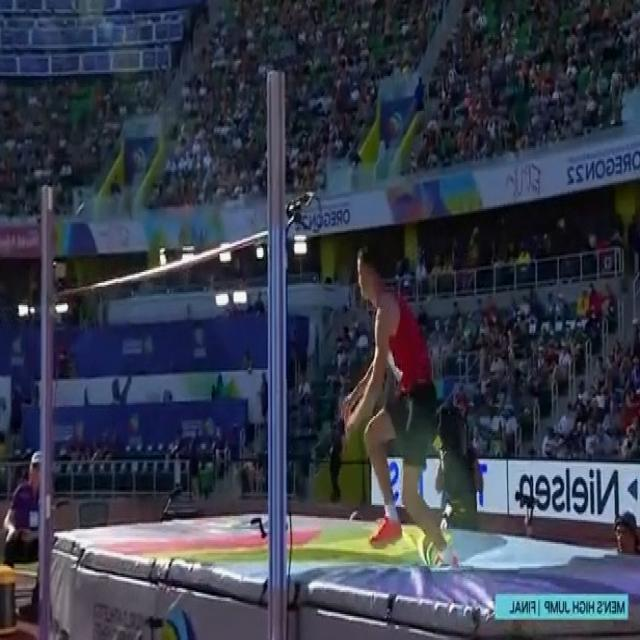land: (340, 238, 461, 572)
